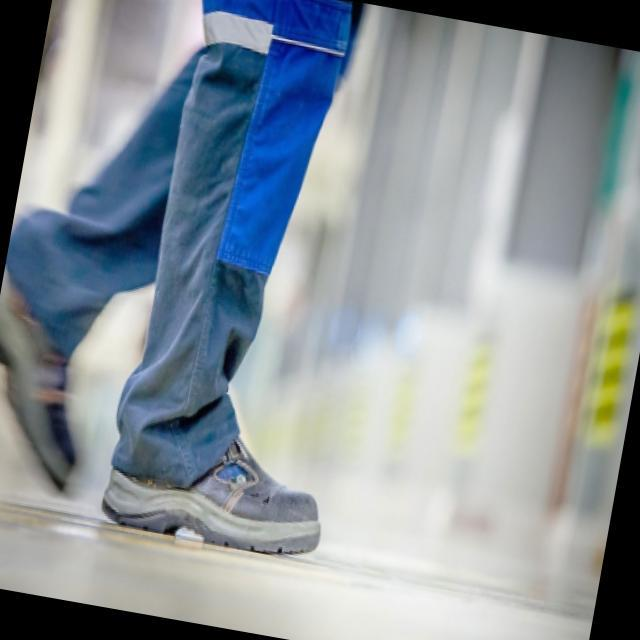shoes: (0, 198, 373, 571)
